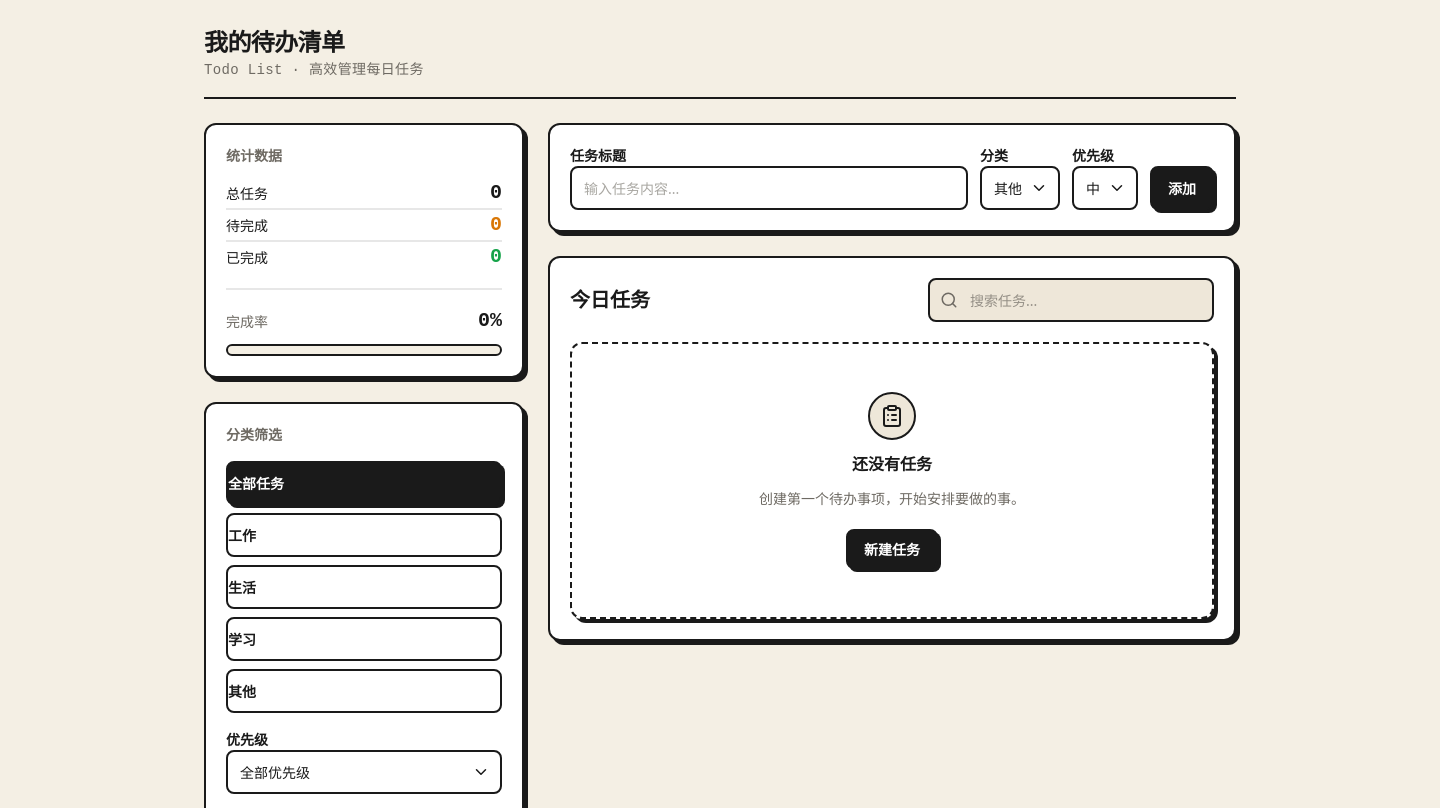
空状态 › 无任务：引导创建第一个任务，按钮打开表单
This screenshot has width=1440, height=808.
Expected: the text "还没有任务" is shown, 852,452 -> 932,476
Expected: the text "创建第一个待办事项，开始安排要做的事。" is shown, 759,488 -> 1025,509
空状态行动按钮在前、移动端悬浮按钮在后
Click the button "新建任务" at (892,549), box 846,529 -> 938,569
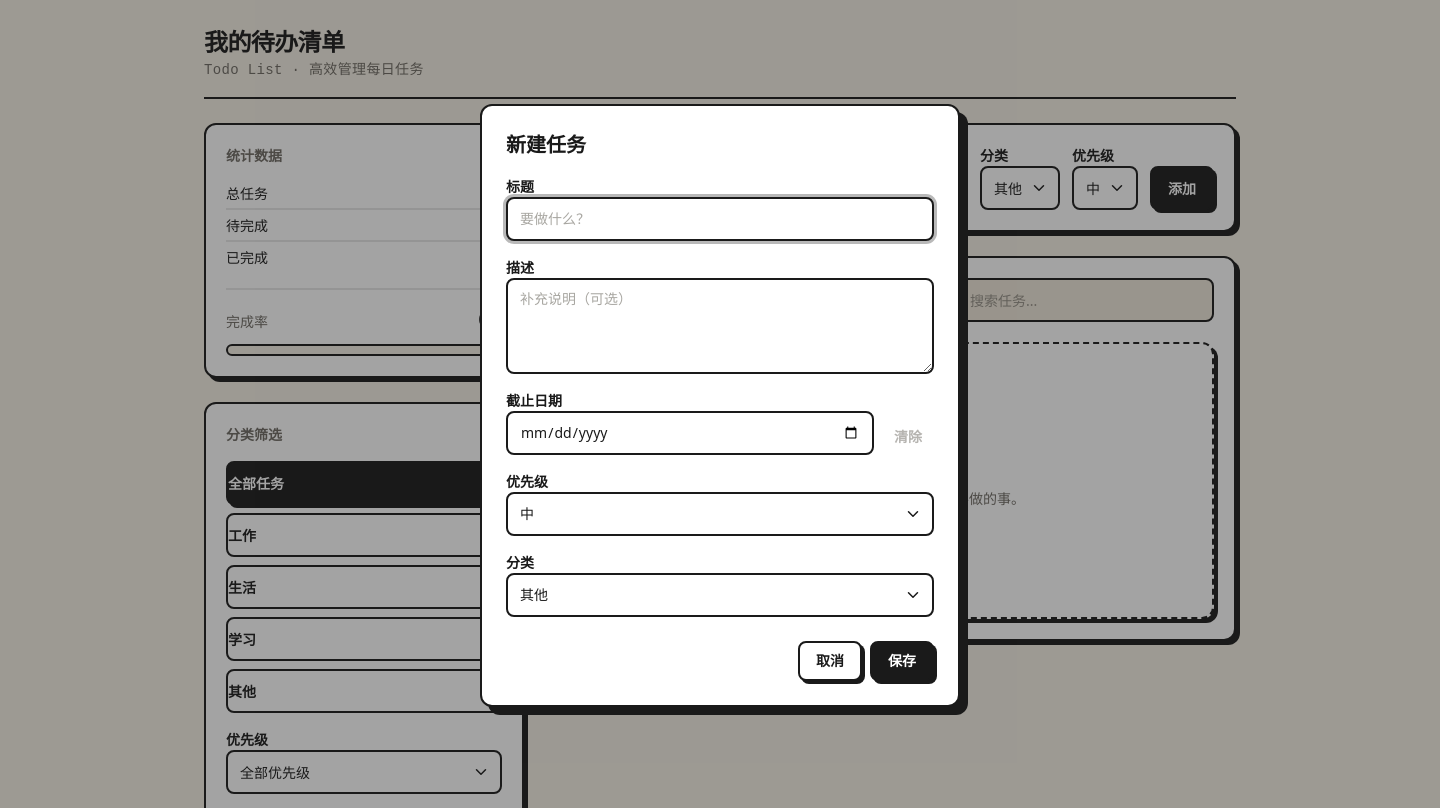
Expected: the heading "新建任务" is shown, 506,130 -> 586,158
